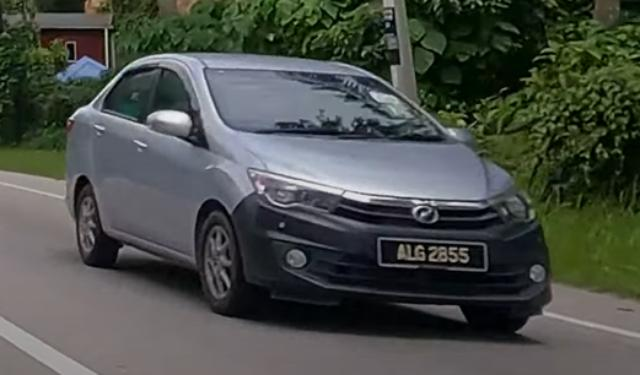License_Plate: (376, 236, 490, 274)
car: (64, 52, 554, 334)
